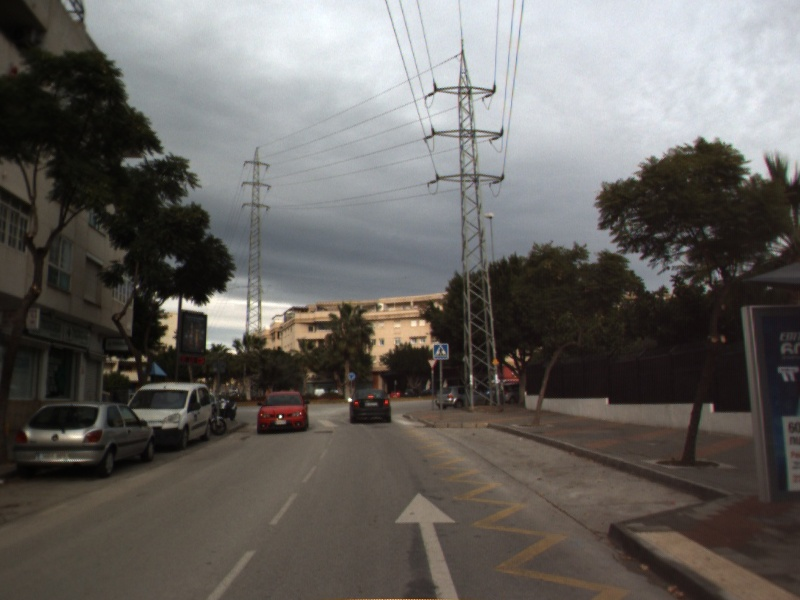STRAIGHT: (391, 488, 461, 600)
